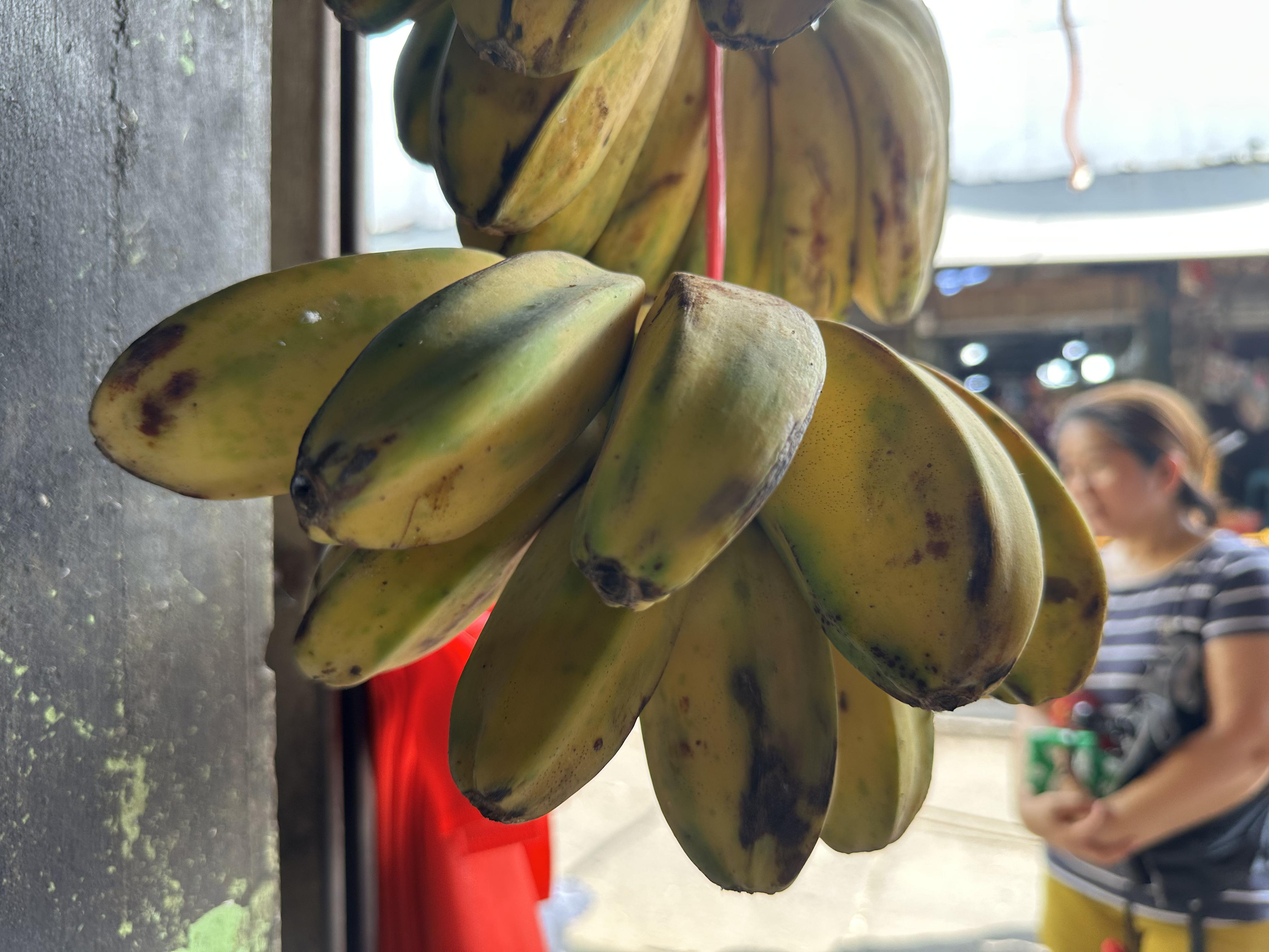underripe: (89, 248, 1106, 893), (327, 0, 712, 292), (725, 0, 950, 324)
